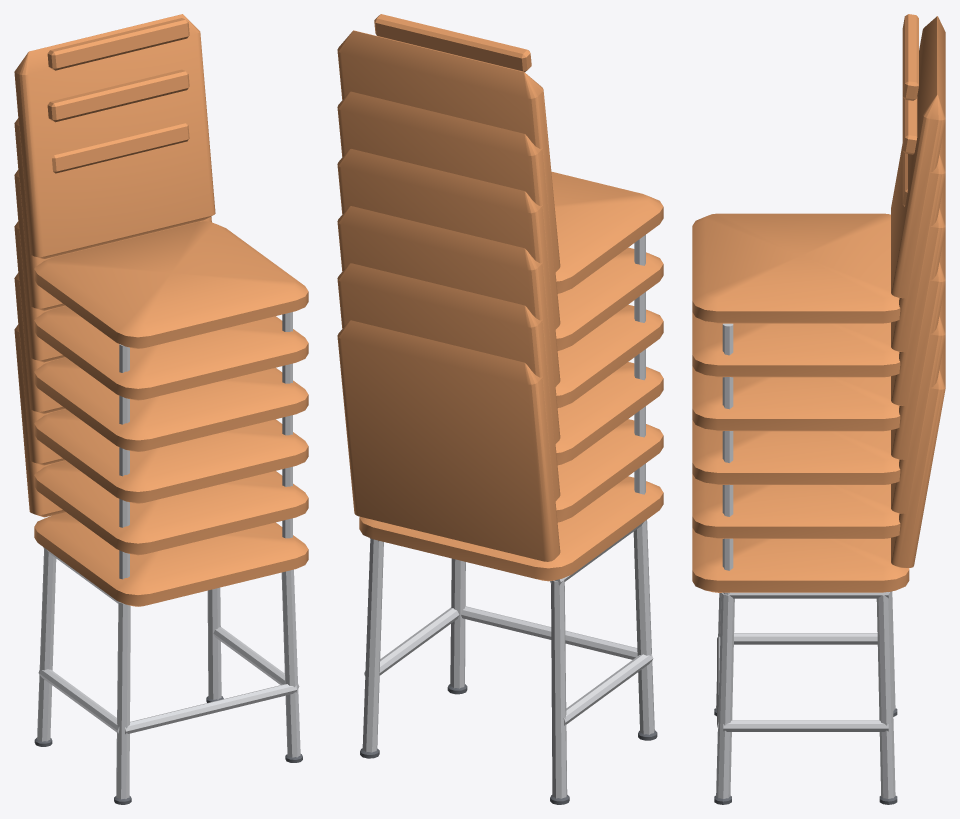
File: university-lecture-hall-and-campus-stackable-chair-sta-d776f6c0__34748.glb
3 views of the same model, side by side, from view 1: azimuth 30°, elevation 25°; view 2: azimuth 150°, elevation 25°; view 3: azimuth 270°, elevation 25° (orthographic). The views are drawn at different scales.
Visible parts, largest first — view 1: stackable-chair-stack-six; view 2: stackable-chair-stack-six; view 3: stackable-chair-stack-six.
Part boxes in pixels (x1,y1,x2,y2): stackable-chair-stack-six: [14, 14, 308, 804]; stackable-chair-stack-six: [337, 14, 663, 804]; stackable-chair-stack-six: [692, 14, 945, 804].
Bounding box in the file's own units: 0.44 × 1.52 × 0.4909.
